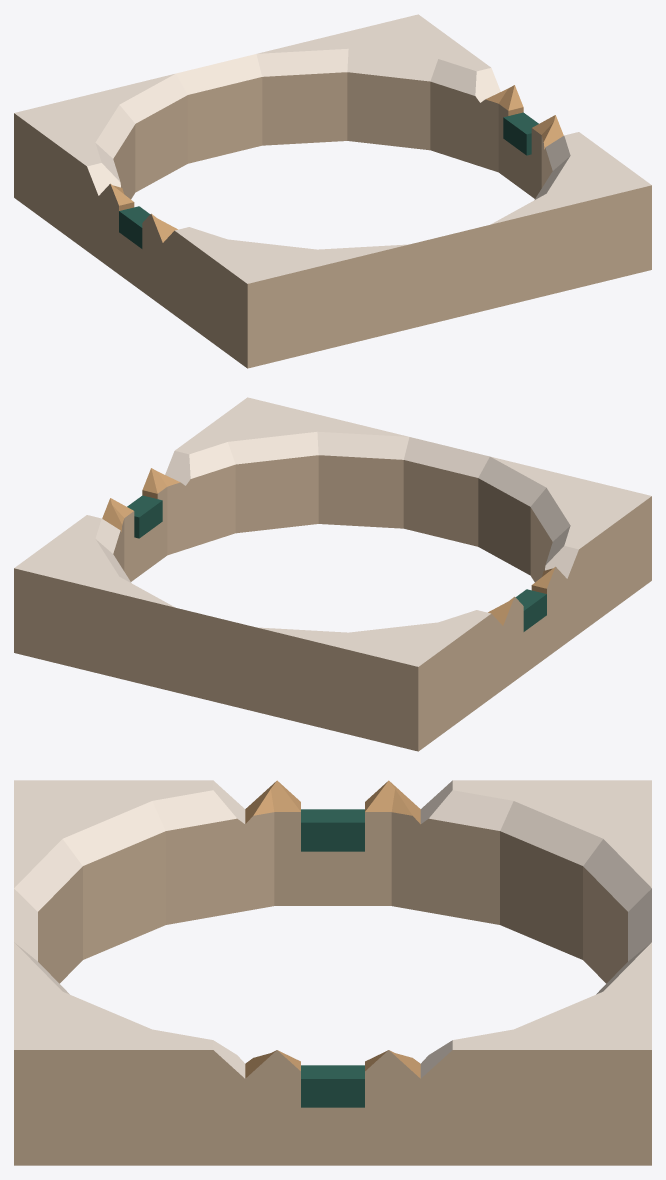
File: Puzzle_Floor_Conduit_Rotating_Housing_Straight.fbx
3 renders of one model, top to bottom at view 1: azimuth 30°, elevation 25°; view 2: azimuth 150°, elevation 25°; view 3: azimuth 270°, elevation 25°, orthographic. The views are drawn at different scales.
Visible parts, largest first — view 1: Sandstone_Trim.Sandstone_Trim.Sandstone_Trim.Sandstone_Trim., Sandstone_Floor.Sandstone_Floor.Sandstone_Floor.Sandstone_Fl, Sandstone_5.Sandstone_5.Sandstone_5.Sandstone_5.Sandstone_5., object1, object2; view 2: Sandstone_Trim.Sandstone_Trim.Sandstone_Trim.Sandstone_Trim., Sandstone_Floor.Sandstone_Floor.Sandstone_Floor.Sandstone_Fl, Sandstone_5.Sandstone_5.Sandstone_5.Sandstone_5.Sandstone_5., object1, object2; view 3: Sandstone_Trim.Sandstone_Trim.Sandstone_Trim.Sandstone_Trim., Sandstone_Floor.Sandstone_Floor.Sandstone_Floor.Sandstone_Fl, Sandstone_5.Sandstone_5.Sandstone_5.Sandstone_5.Sandstone_5., object1, object2.
Boxes of the visible parts, <box> form: Sandstone_Trim.Sandstone_Trim.Sandstone_Trim.Sandstone_Trim.: <box>14,72,651,368</box>; Sandstone_Floor.Sandstone_Floor.Sandstone_Floor.Sandstone_Fl: <box>14,14,651,283</box>; Sandstone_5.Sandstone_5.Sandstone_5.Sandstone_5.Sandstone_5.: <box>110,85,563,242</box>; object1: <box>503,112,538,155</box>; object2: <box>119,206,150,248</box>; Sandstone_Trim.Sandstone_Trim.Sandstone_Trim.Sandstone_Trim.: <box>14,455,651,751</box>; Sandstone_Floor.Sandstone_Floor.Sandstone_Floor.Sandstone_Fl: <box>14,397,651,666</box>; Sandstone_5.Sandstone_5.Sandstone_5.Sandstone_5.Sandstone_5.: <box>102,468,555,625</box>; object1: <box>127,495,162,538</box>; object2: <box>515,589,546,631</box>; Sandstone_Trim.Sandstone_Trim.Sandstone_Trim.Sandstone_Trim.: <box>14,812,651,1165</box>; Sandstone_Floor.Sandstone_Floor.Sandstone_Floor.Sandstone_Fl: <box>14,780,651,1078</box>; Sandstone_5.Sandstone_5.Sandstone_5.Sandstone_5.Sandstone_5.: <box>245,780,420,1078</box>; object1: <box>301,1065,364,1107</box>; object2: <box>301,809,364,851</box>.
Bounding box in the file's own units: 1 × 0.2 × 1.
